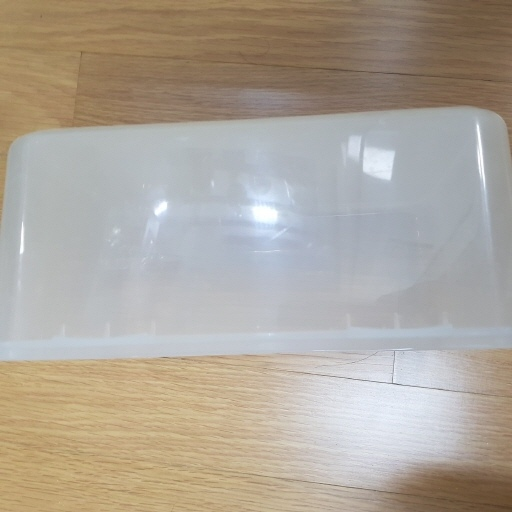Plastic_4: (5, 106, 512, 353)
